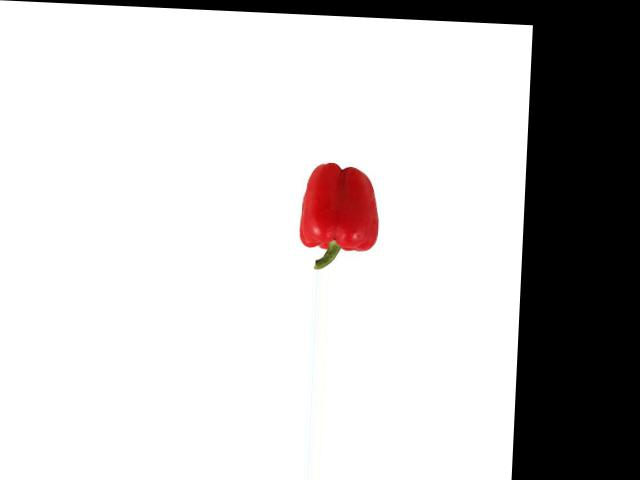bell_pepper: (294, 160, 392, 271)
